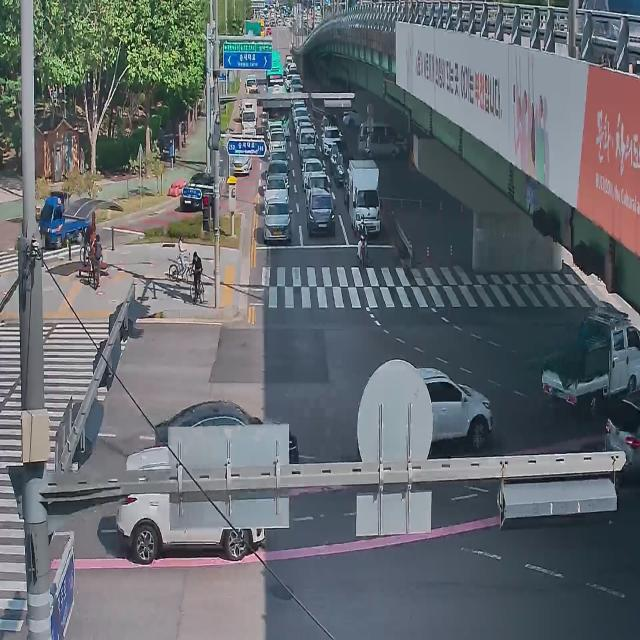Bus: (261, 92, 293, 136), (266, 51, 284, 86)
Car: (116, 446, 264, 566), (146, 386, 302, 476), (415, 366, 493, 452), (601, 381, 640, 479), (358, 120, 406, 156), (180, 171, 220, 212), (307, 184, 336, 240), (263, 196, 293, 247), (332, 140, 354, 186), (366, 134, 401, 160), (228, 145, 254, 179), (266, 173, 290, 207), (303, 159, 324, 186), (330, 138, 348, 169), (342, 107, 369, 127), (323, 125, 342, 153), (268, 129, 287, 156), (265, 160, 289, 180), (308, 172, 328, 195), (318, 112, 339, 133), (266, 150, 290, 168), (301, 146, 320, 168), (265, 119, 283, 139)
Motorcycle: (357, 213, 370, 268)
Truck: (534, 294, 640, 402), (38, 193, 91, 249), (347, 159, 381, 236), (238, 99, 261, 146), (298, 128, 318, 152), (245, 71, 258, 95)
